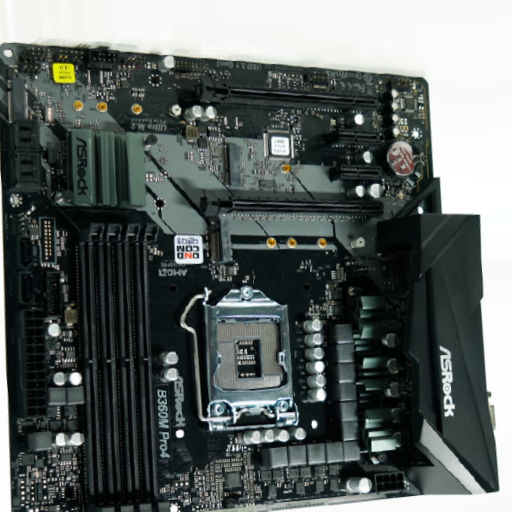CPU: (205, 288, 297, 424)
GPU: (196, 74, 378, 114), (200, 188, 385, 218)
MOTHERBOARD: (1, 40, 431, 506)
RAM: (76, 222, 161, 512)
SSD: (209, 214, 239, 273), (226, 140, 242, 188)
